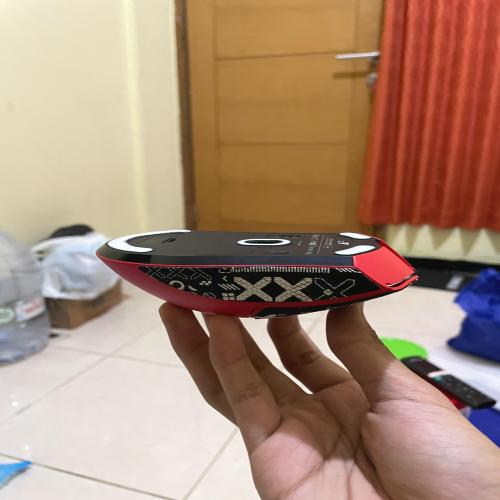mouse: (84, 216, 427, 333)
